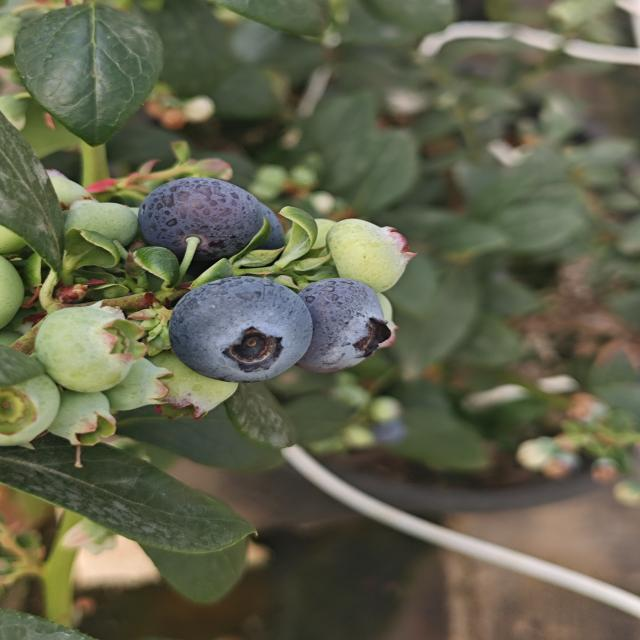ripe: (166, 274, 316, 385), (135, 175, 285, 264), (294, 276, 394, 376)
